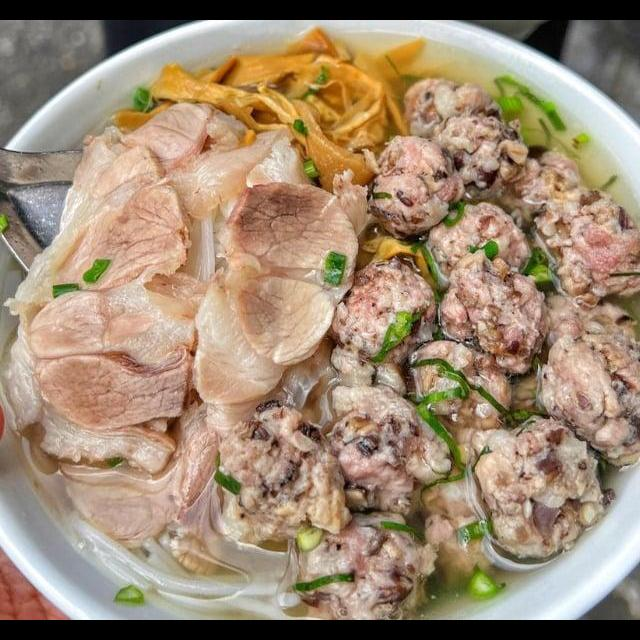bun: (62, 505, 309, 620)
bun moc: (0, 71, 640, 613)
thit heo: (0, 140, 205, 480), (220, 170, 363, 375)
vien moc: (454, 409, 613, 574), (213, 394, 355, 554), (289, 506, 444, 620), (322, 386, 455, 516), (401, 68, 530, 191), (534, 325, 640, 464), (328, 251, 440, 382), (531, 175, 640, 305), (400, 326, 525, 432), (437, 255, 546, 360), (367, 129, 465, 245), (425, 195, 537, 296)
